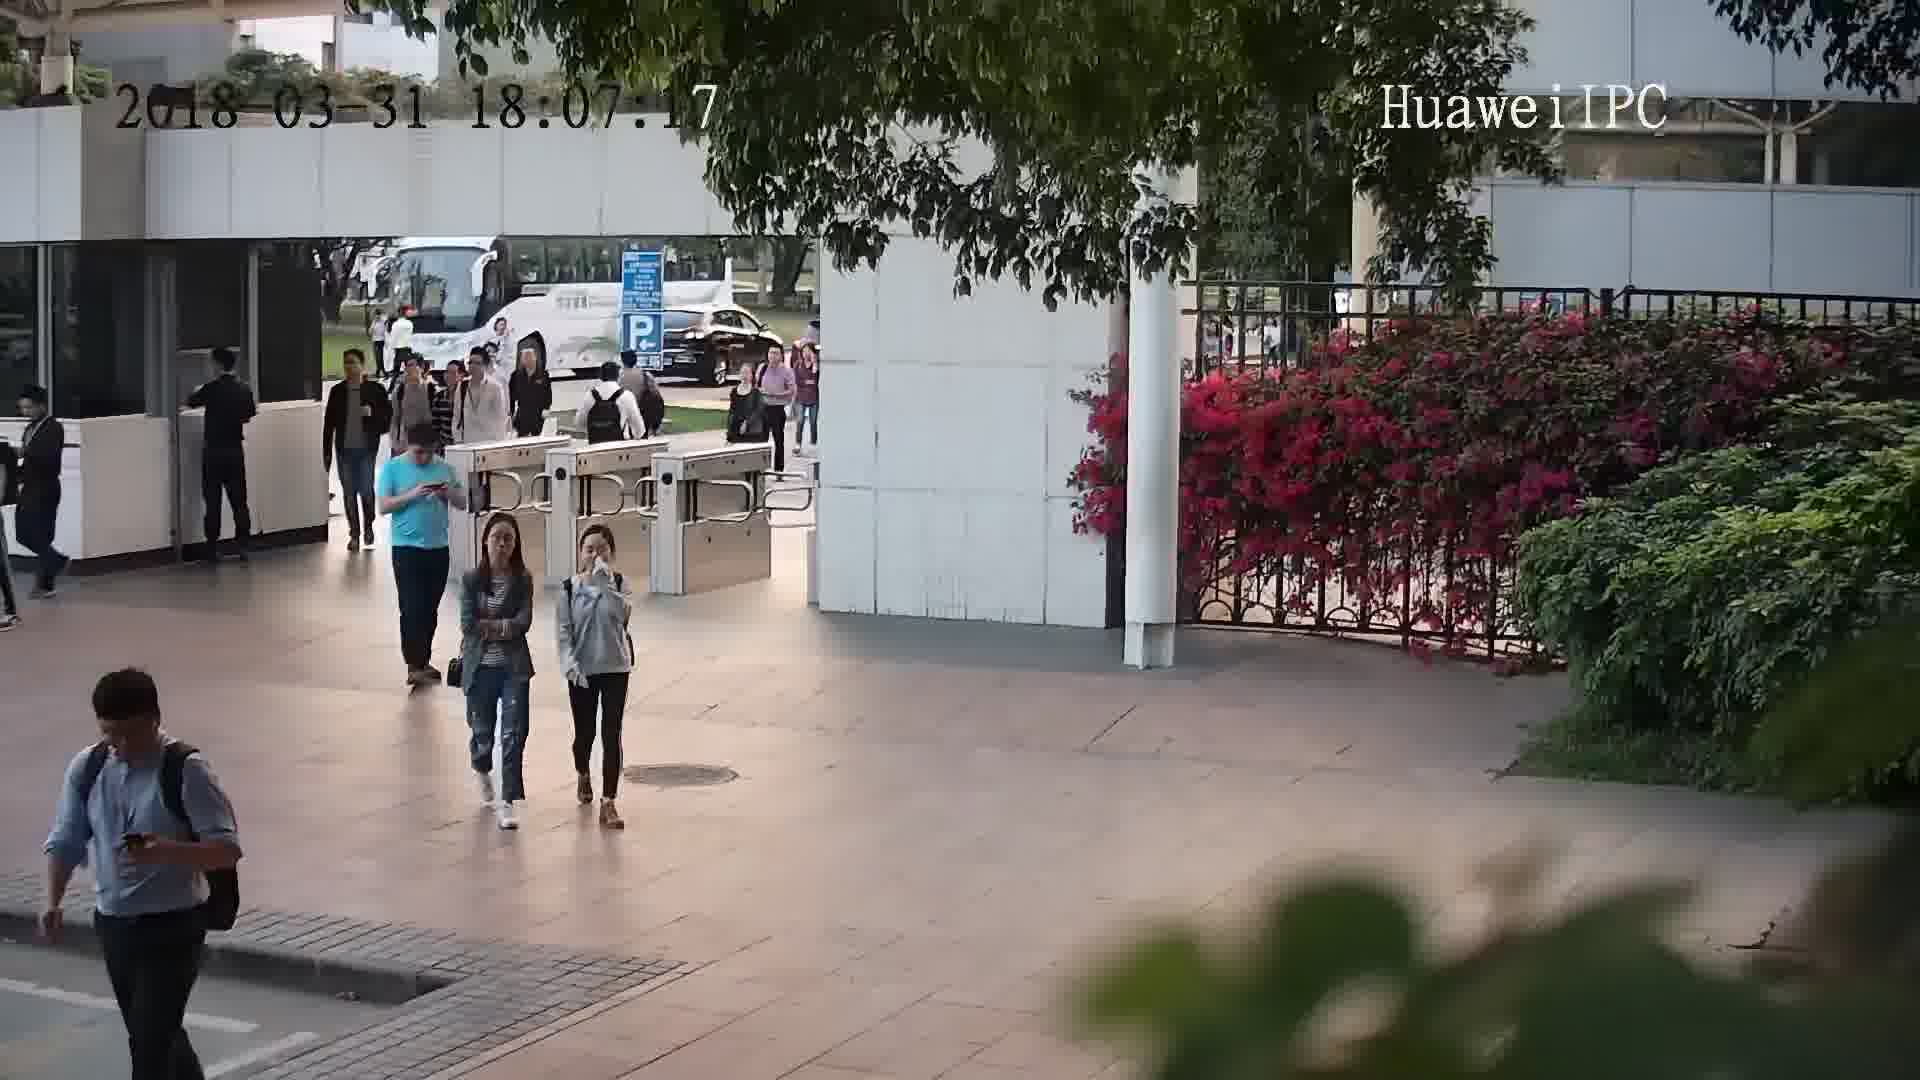face: (481, 518, 523, 560)
person: (67, 666, 217, 788), (460, 511, 535, 592), (560, 521, 629, 597), (387, 419, 454, 481), (327, 346, 389, 403), (13, 379, 63, 446), (194, 342, 251, 401), (388, 350, 436, 401), (585, 358, 633, 410), (463, 344, 505, 397), (512, 334, 550, 386), (727, 358, 767, 406), (757, 338, 797, 380), (789, 341, 823, 381), (437, 356, 471, 393), (619, 347, 652, 381)
